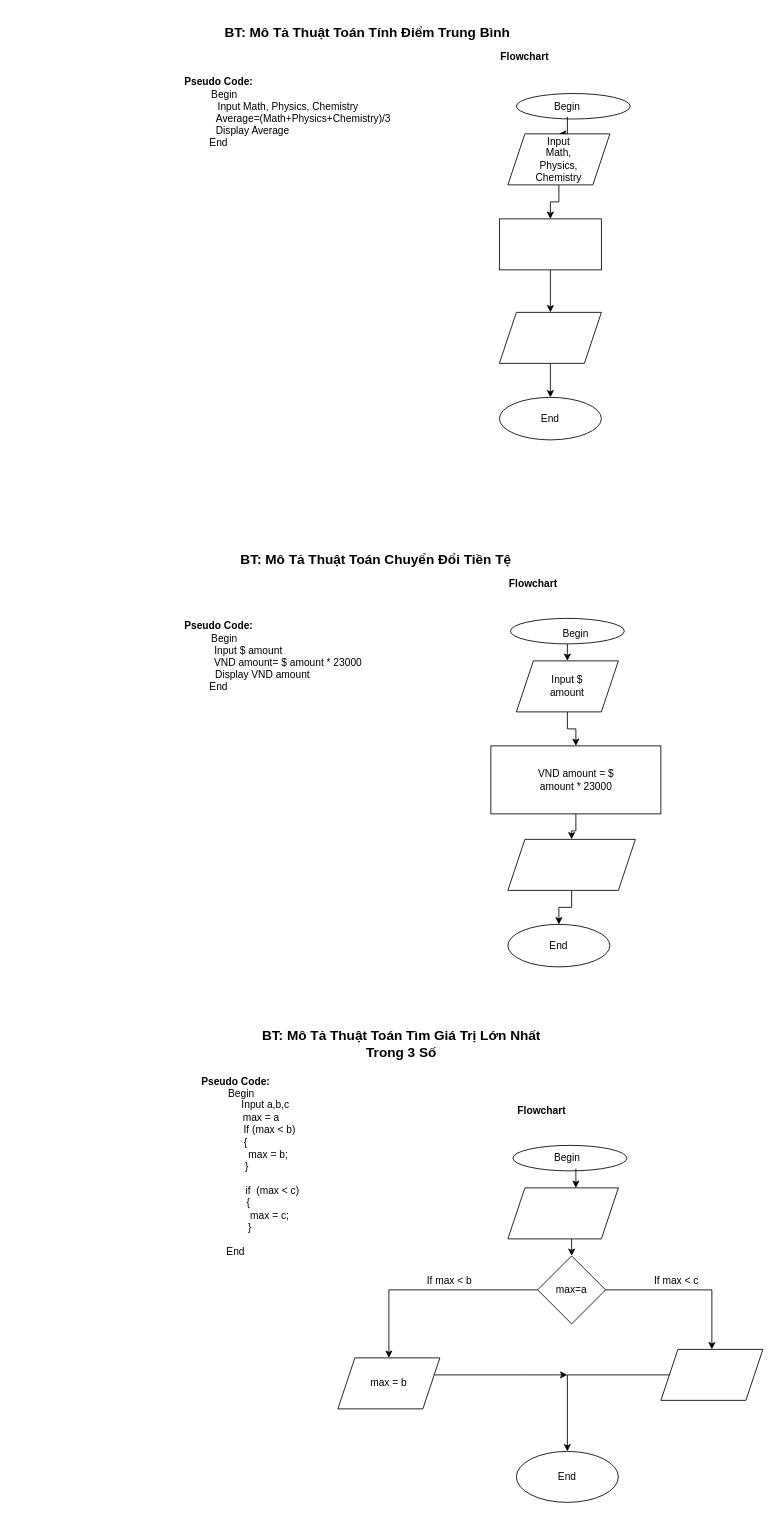
Image size: 778x1517. Some labels were removed from this diagram. The shapes that lost their labels are listed below. From the top down, each one's centre as x and y in pixels, then its label:
At point 550,244: "Average=(Math + Physics + Chemistry)/3".
At point 550,337: "Display Average".
At point 571,864: "Display VND amount".
At point 562,1213: "Input a,b,c,".
At point 711,1374: "max = c".
